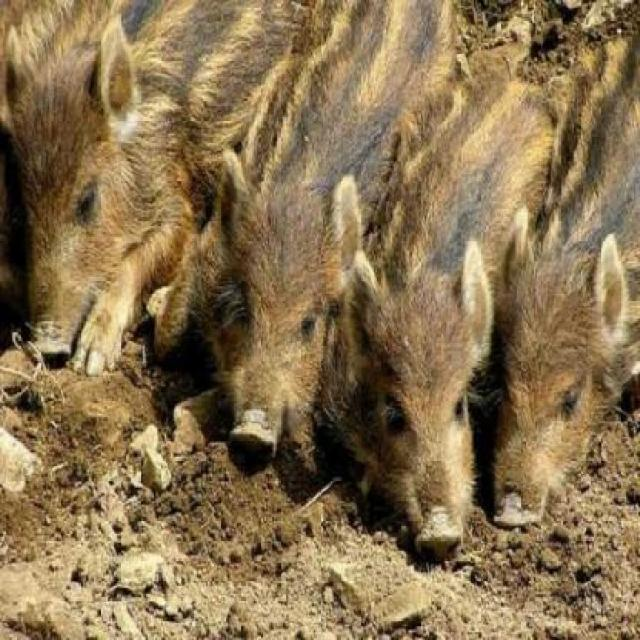pig: (332, 63, 550, 620), (0, 0, 302, 357), (225, 0, 418, 471), (477, 45, 639, 562)
